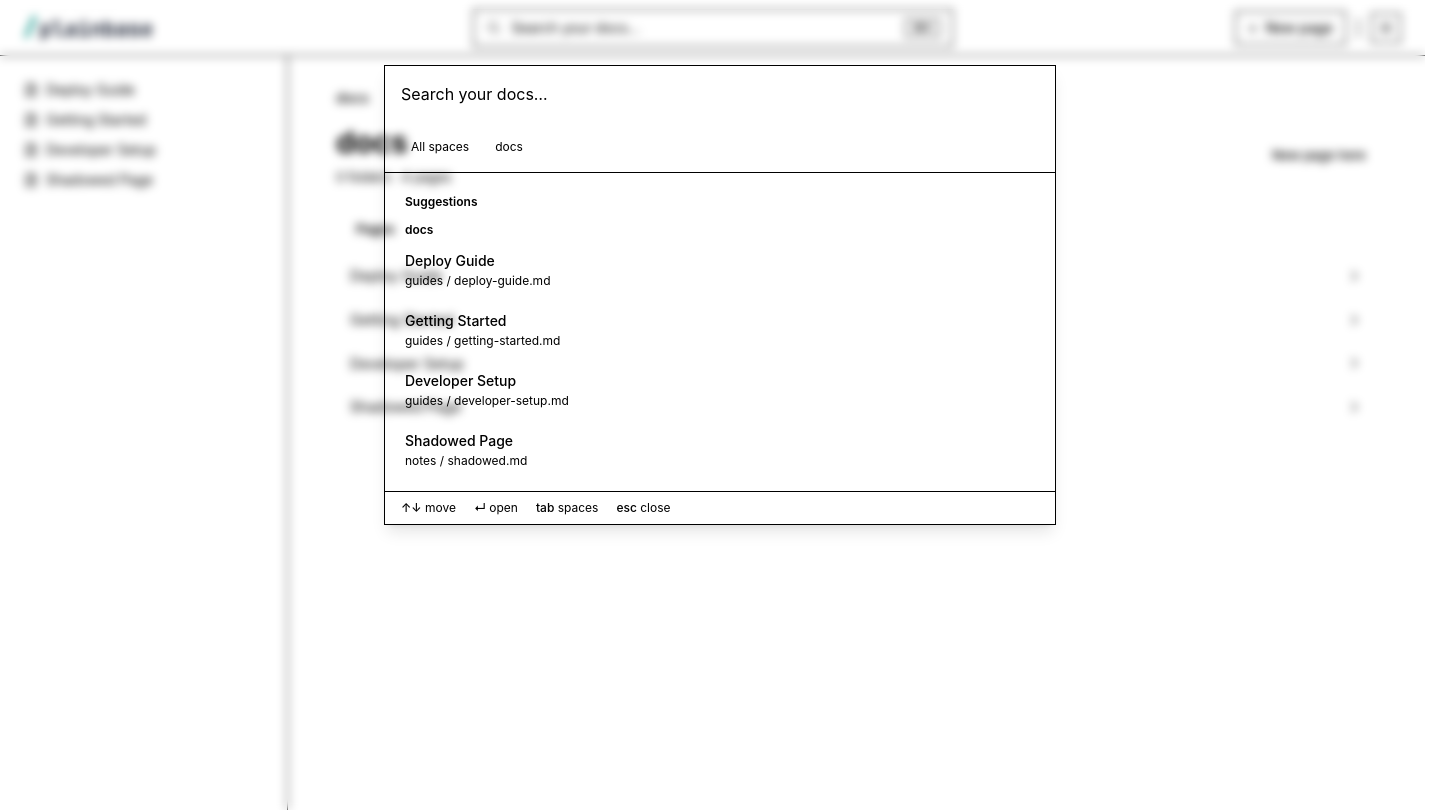
automatic search › appends content matches automatically while keeping immediate title matches
Expected: the button "Search your docs… ⌘K" is shown, [472,8,952,46]
Type "deploy" into the dropdown with placeholder "Search your docs…". click: (720, 94)
box: [385,66,1055,122]
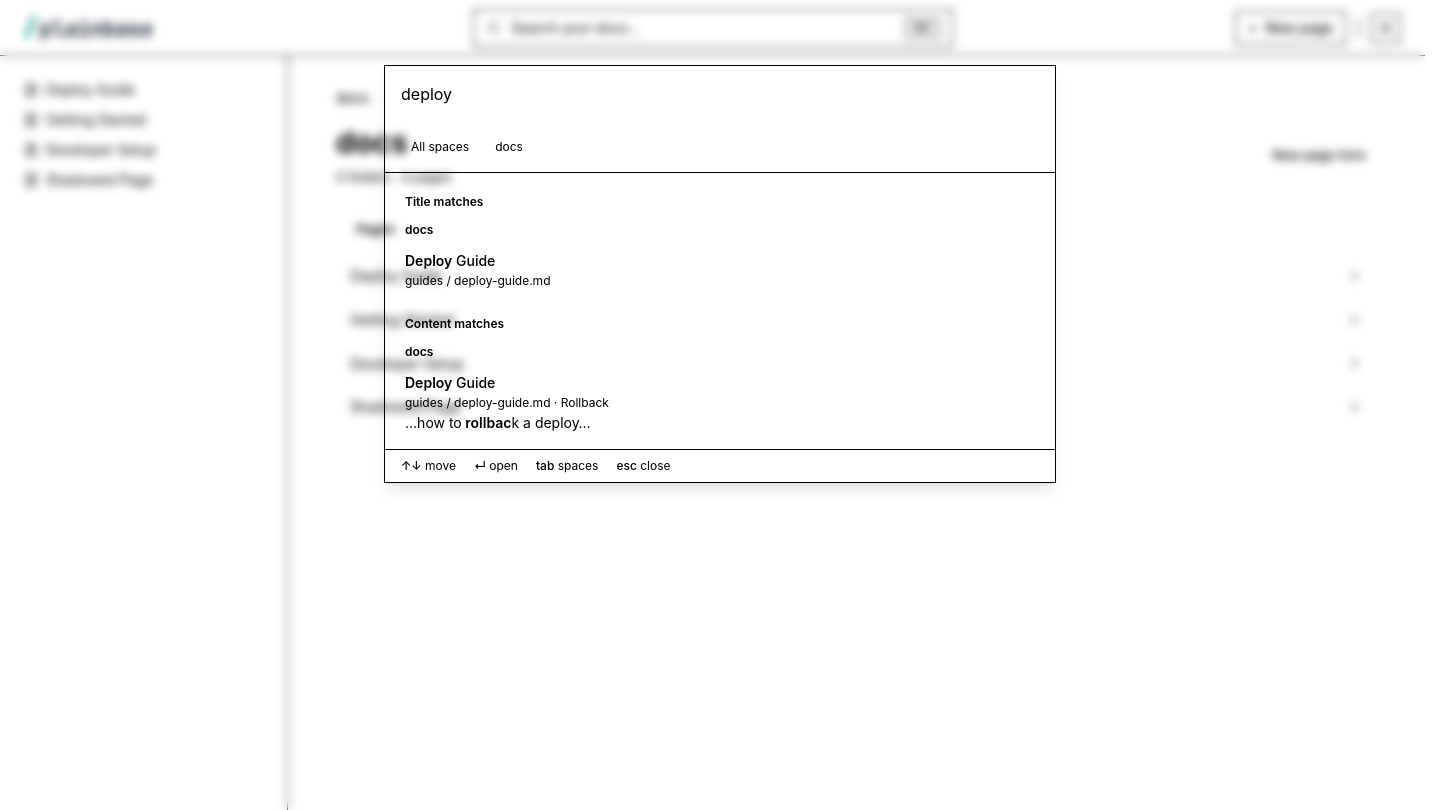
Expected: the option "Deploy Guide guides / deploy-guide.md" is shown, [404,252,550,288]
Now the 2nd option is shown, box [404,374,609,431]
